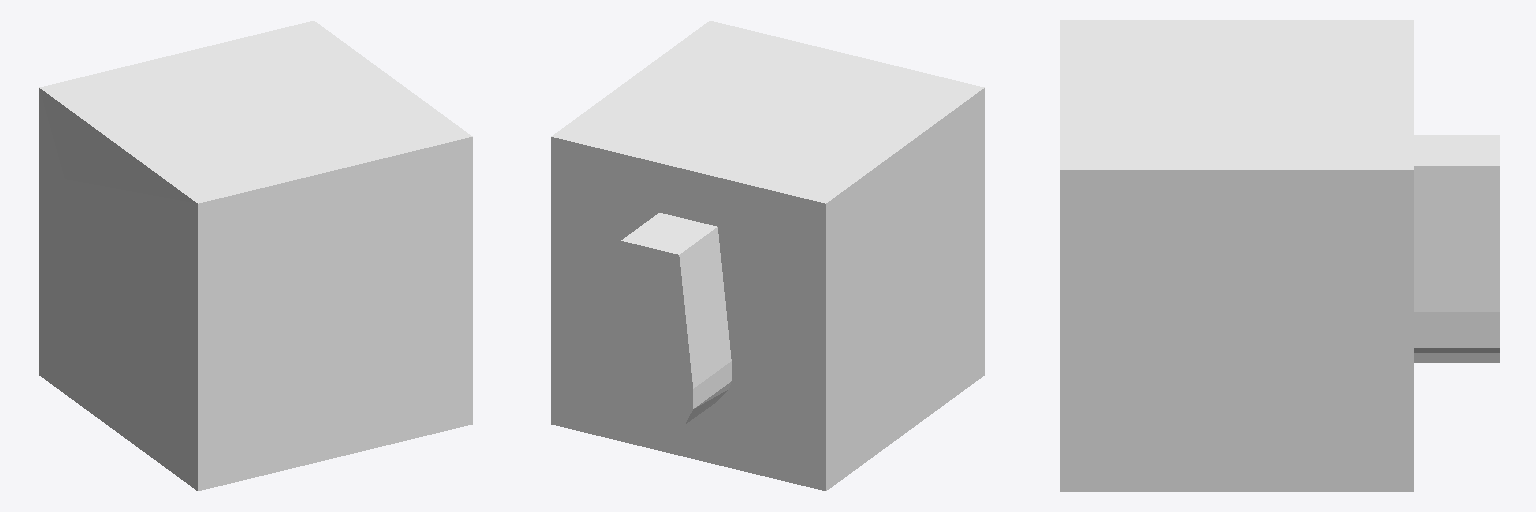
URDF robot description (Key_cube_cap_preprocessed_convex):
<?xml version="1.0" ?>
<robot name="Key_cube_cap_preprocessed_convex">
  <link name="baseLink">
    <contact>
    	<friction_anchor/>
    	   <lateral_friction value="1.0"/>
    </contact>
    <inertial>
      <origin rpy="0 0 0" xyz="0 0 0"/>
       <!-- mass controls penetration -->
       <mass value=".5"/>
       <inertia ixx="1e-4" ixy="0" ixz="0" iyy="1e-4" iyz="0" izz="1e-4"/>
    </inertial>
    <visual>
      <origin rpy="0 0 0" xyz="0 0 0"/>
      <geometry>
        <mesh filename="Key_cube_cap_preprocessed_convex.obj"/>
      </geometry>
       <material name="white">
        <color rgba="1 1 1 1"/>
      </material>
    </visual>
    <collision>
      <origin rpy="0 0 0" xyz="0 0 0"/>
      <geometry>
        <mesh filename="Key_cube_cap_preprocessed_convex.obj"/>
      </geometry>
    </collision>
  </link>
</robot>

--- Render facts (derived) ---
Views: 3 orthographic renders of the robot side by side, from view 1: azimuth 30°, elevation 25°; view 2: azimuth 150°, elevation 25°; view 3: azimuth 270°, elevation 25°.
Model Key_cube_cap_preprocessed_convex with 1 links and 0 joints (none), rooted at baseLink, posed every joint at zero.
Visible links, largest first — view 1: baseLink; view 2: baseLink; view 3: baseLink.
Boxes of the visible links, x1,y1,x2,y2 form: baseLink: (39,21,472,490); baseLink: (551,21,984,490); baseLink: (1060,20,1499,491).
Size in the robot's own frame: 0.0811 by 0.1008 by 0.0811 metres.
1 mesh visuals loaded from 1 distinct referenced files (1 OBJ).